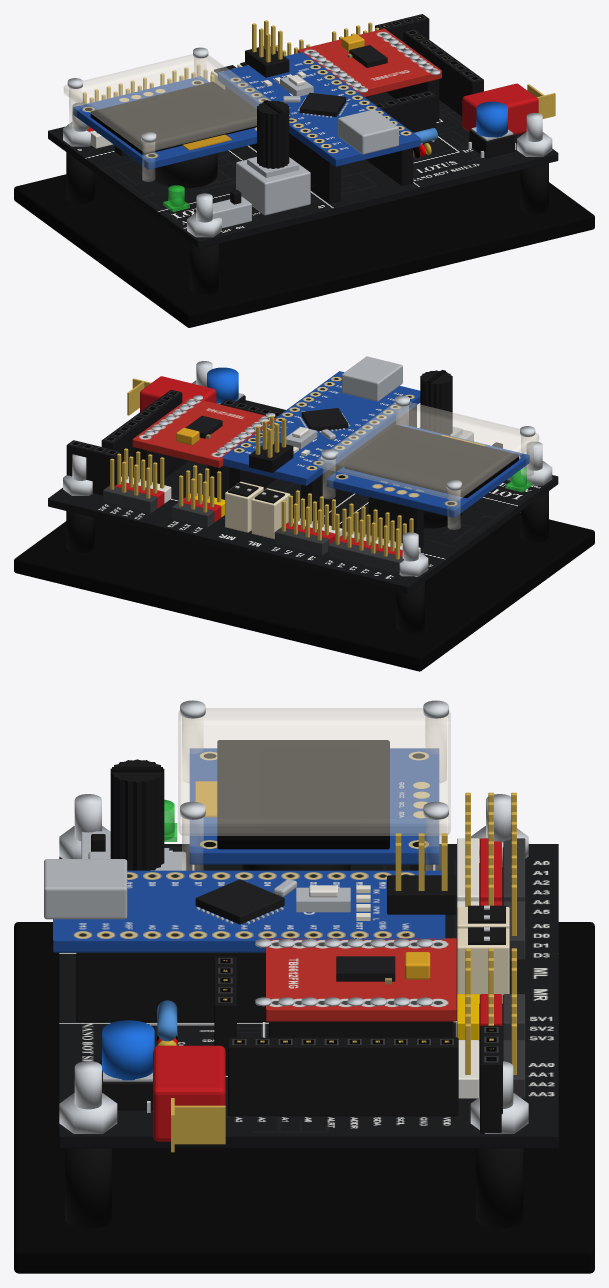
The model's file is lotus-nano-bot.glb.
3 renders of one model, top to bottom at view 1: azimuth 30°, elevation 25°; view 2: azimuth 150°, elevation 25°; view 3: azimuth 270°, elevation 25°, orthographic. The views are drawn at different scales.
Parts seen in each view (by area): view 1: base_acrylic, shield_pcb_top, oled_case_top, nano_pcb_top, shield_pcb, oled_glass, tb6612_pcb_top, oled_screen, pot_body, ads_header, oled_pcb_top, tplug_housing (+28 smaller); view 2: base_acrylic, oled_case_top, shield_pcb_top, nano_pcb_top, shield_pcb, oled_glass, tb6612_pcb_top, oled_screen, oled_pcb_top, nano_usb, knob_shaft, oled_pcb (+32 smaller); view 3: base_acrylic, oled_case_top, shield_pcb_top, ads_header, nano_pcb_top, nano_socket_7.62, oled_glass, tb6612_pcb_top, oled_screen, oled_pcb_top, shield_pcb, knob_shaft (+38 smaller).
Part boxes in pixels (x1=…): base_acrylic: x1=14, y1=170, x2=594, y2=327; shield_pcb_top: x1=48, y1=92, x2=558, y2=240; oled_case_top: x1=64, y1=54, x2=270, y2=152; nano_pcb_top: x1=218, y1=52, x2=420, y2=158; shield_pcb: x1=48, y1=131, x2=558, y2=248; oled_glass: x1=90, y1=81, x2=256, y2=154; tb6612_pcb_top: x1=298, y1=28, x2=441, y2=91; oled_screen: x1=109, y1=90, x2=242, y2=136; pot_body: x1=236, y1=157, x2=310, y2=215; ads_header: x1=403, y1=29, x2=483, y2=116; oled_pcb_top: x1=73, y1=76, x2=256, y2=162; tplug_housing: x1=462, y1=83, x2=538, y2=134; base_acrylic: x1=14, y1=512, x2=594, y2=671; oled_case_top: x1=317, y1=402, x2=538, y2=500; shield_pcb_top: x1=48, y1=400, x2=558, y2=586; nano_pcb_top: x1=221, y1=371, x2=420, y2=478; shield_pcb: x1=48, y1=477, x2=558, y2=594; oled_glass: x1=344, y1=425, x2=518, y2=498; tb6612_pcb_top: x1=133, y1=397, x2=276, y2=460; oled_screen: x1=363, y1=436, x2=495, y2=483; oled_pcb_top: x1=327, y1=424, x2=529, y2=510; nano_usb: x1=342, y1=356, x2=402, y2=401; knob_shaft: x1=420, y1=370, x2=452, y2=435; oled_pcb: x1=327, y1=456, x2=529, y2=517; base_acrylic: x1=14, y1=922, x2=594, y2=1273; oled_case_top: x1=178, y1=708, x2=450, y2=835; shield_pcb_top: x1=59, y1=844, x2=558, y2=1135; ads_header: x1=228, y1=1037, x2=458, y2=1116; nano_pcb_top: x1=53, y1=870, x2=445, y2=939; nano_socket_7.62: x1=76, y1=952, x2=268, y2=1021; oled_glass: x1=217, y1=740, x2=389, y2=849; tb6612_pcb_top: x1=266, y1=938, x2=456, y2=1008; oled_screen: x1=261, y1=747, x2=360, y2=831; oled_pcb_top: x1=189, y1=748, x2=439, y2=851; shield_pcb: x1=59, y1=1135, x2=558, y2=1148; knob_shaft: x1=110, y1=759, x2=164, y2=870.
Bounding box in the file's own units: 0.0875 × 0.0351 × 0.064.
Materials: 40 (4 with a texture image).
